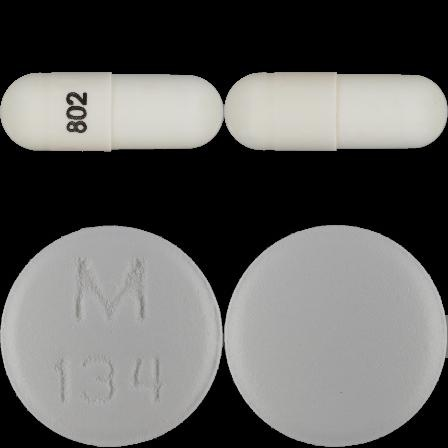64205-102: (0, 0, 224, 224)
